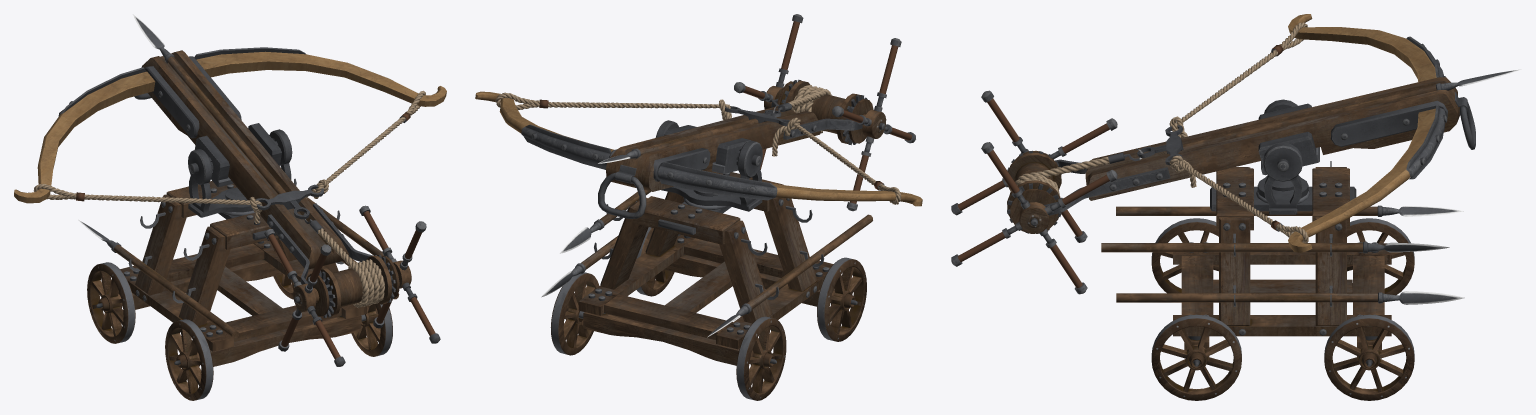
The model's file is catapult.glb.
3 renders of one model, left to right at view 1: azimuth 30°, elevation 25°; view 2: azimuth 150°, elevation 25°; view 3: azimuth 270°, elevation 25°, orthographic. The views are drawn at different scales.
Visible parts, largest first — view 1: Object_3, Object_2; view 2: Object_3, Object_2; view 3: Object_3, Object_2.
Boxes of the visible parts, <box> form: Object_3: <box>14,14,446,400</box>; Object_2: <box>96,93,366,364</box>; Object_3: <box>475,14,922,400</box>; Object_2: <box>532,125,884,363</box>; Object_3: <box>951,14,1520,400</box>; Object_2: <box>1032,103,1447,366</box>.
Size of the model in its own units: 2.74 by 1.54 by 2.84.
Materials: 1 (1 with a texture image).
